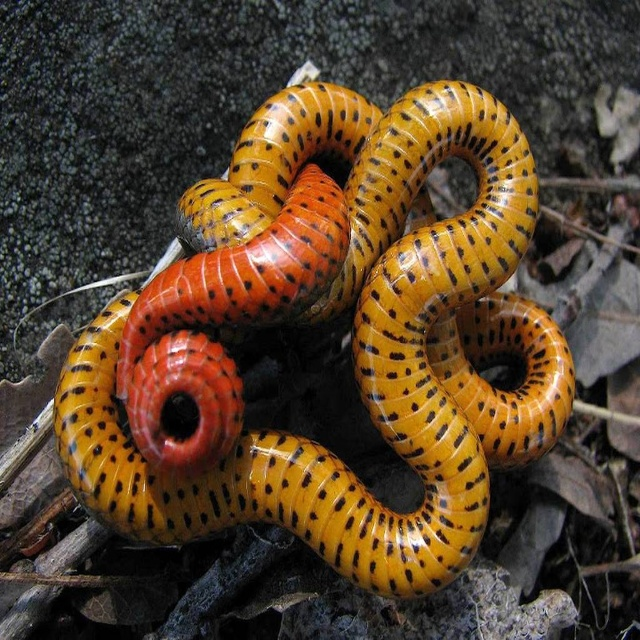Snake: (53, 80, 576, 598)
